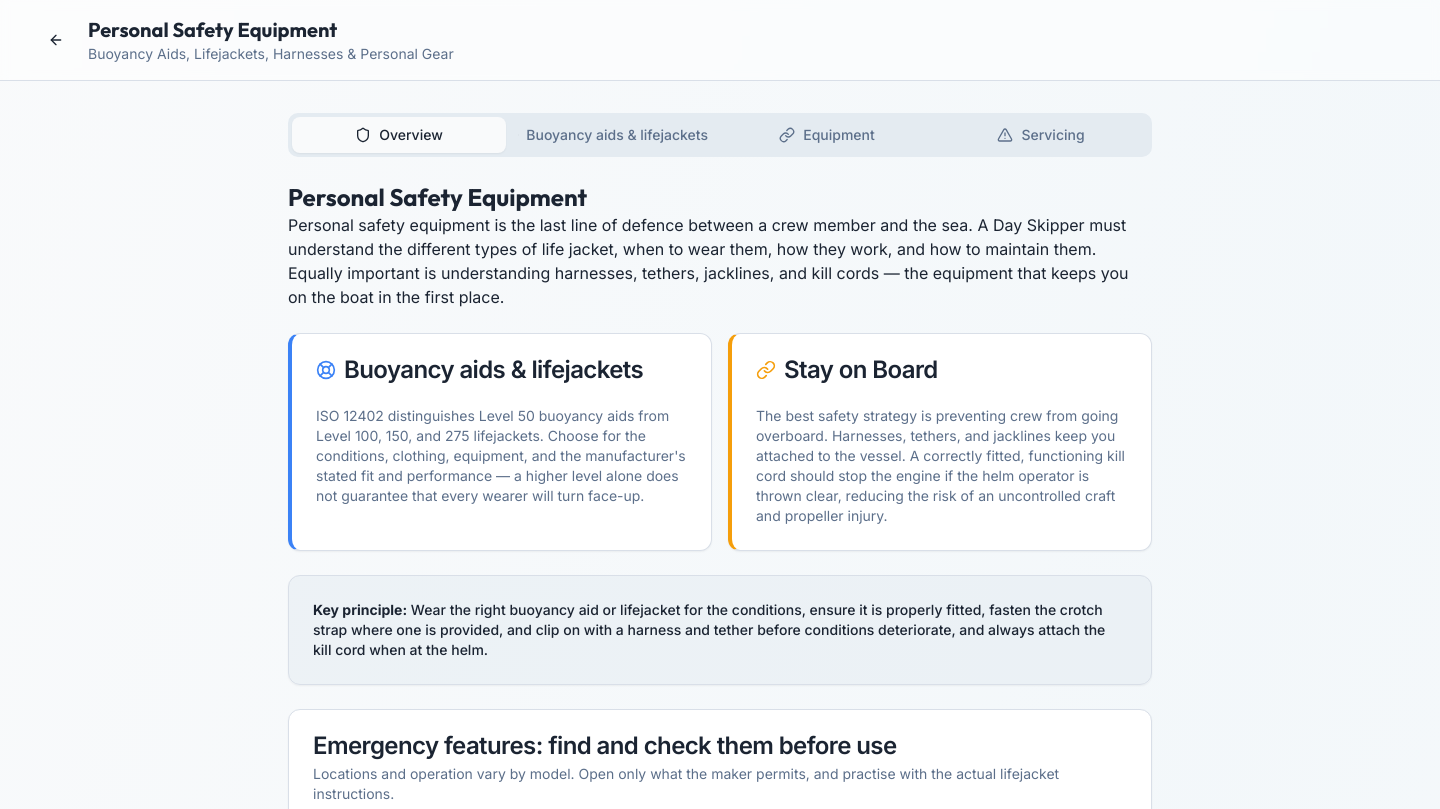
Test case: PersonalSafetyTheory Page › should cover jacklines in the Equipment tab (AC-1)
The width and height of the screenshot is (1440, 809).
Click the tab "Equipment".
click(827, 135)  # box [720,117,934,153]
(page scrolled)
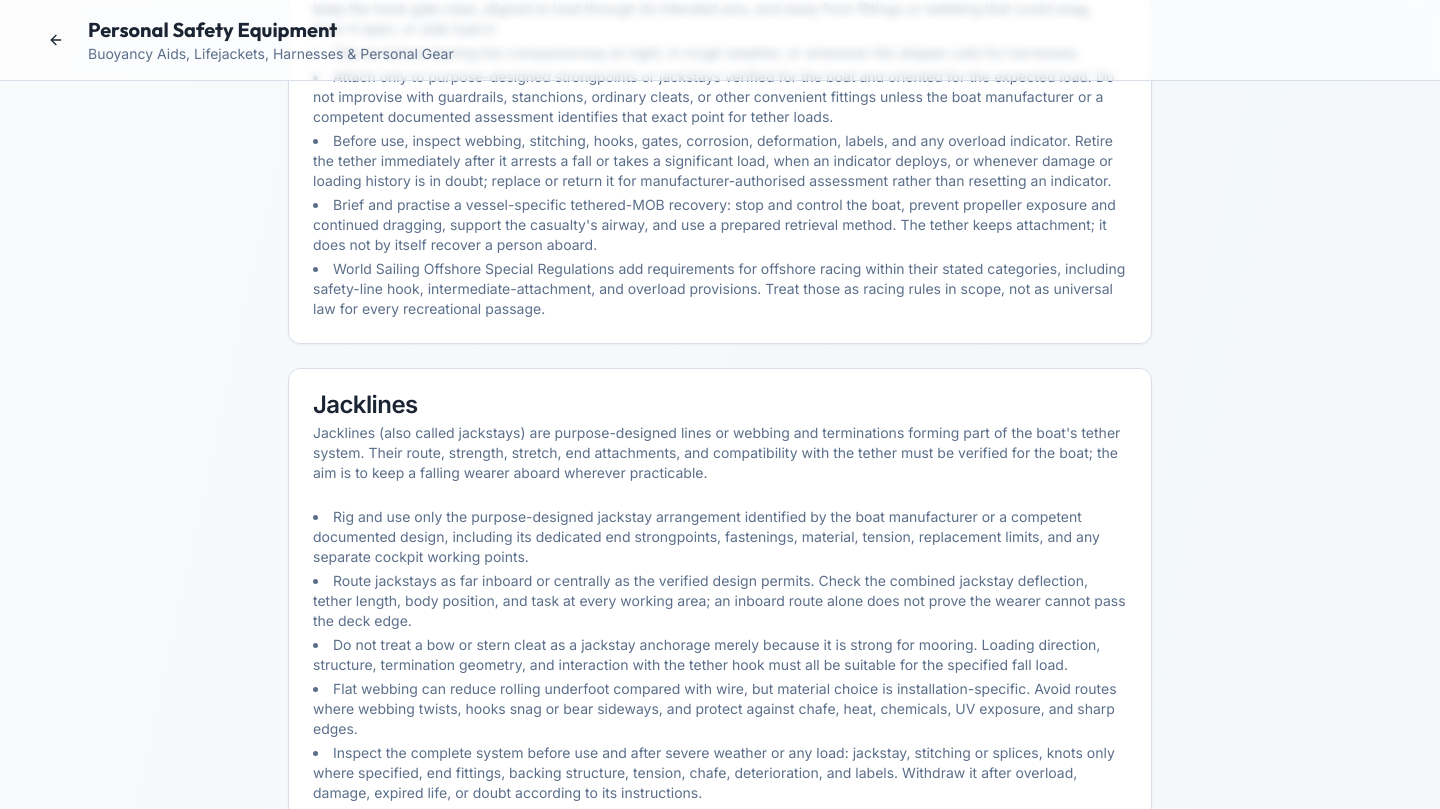
Now the text "Jacklines" is shown, box [313,390,418,419]
